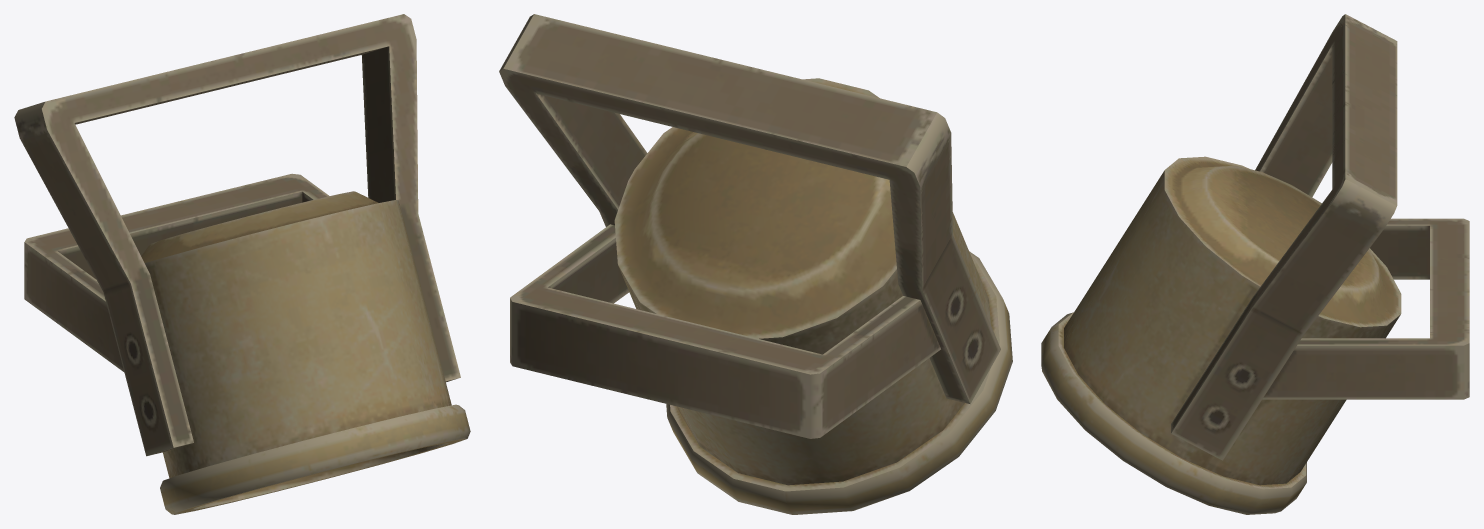
The model's file is SM_electric_props_02.glb.
3 renders of one model, left to right at view 1: azimuth 30°, elevation 25°; view 2: azimuth 150°, elevation 25°; view 3: azimuth 270°, elevation 25°, orthographic. The views are drawn at different scales.
Parts seen in each view (by area): view 1: SM_electric_props_02; view 2: SM_electric_props_02; view 3: SM_electric_props_02.
Part boxes in pixels (left/top/right/bottom): SM_electric_props_02: left=14, top=14, right=470, bottom=514; SM_electric_props_02: left=499, top=14, right=1012, bottom=514; SM_electric_props_02: left=1041, top=14, right=1469, bottom=514.
Size of the model in its own units: 0.6722 by 0.7263 by 0.7154.
2 materials, 1 textured.
